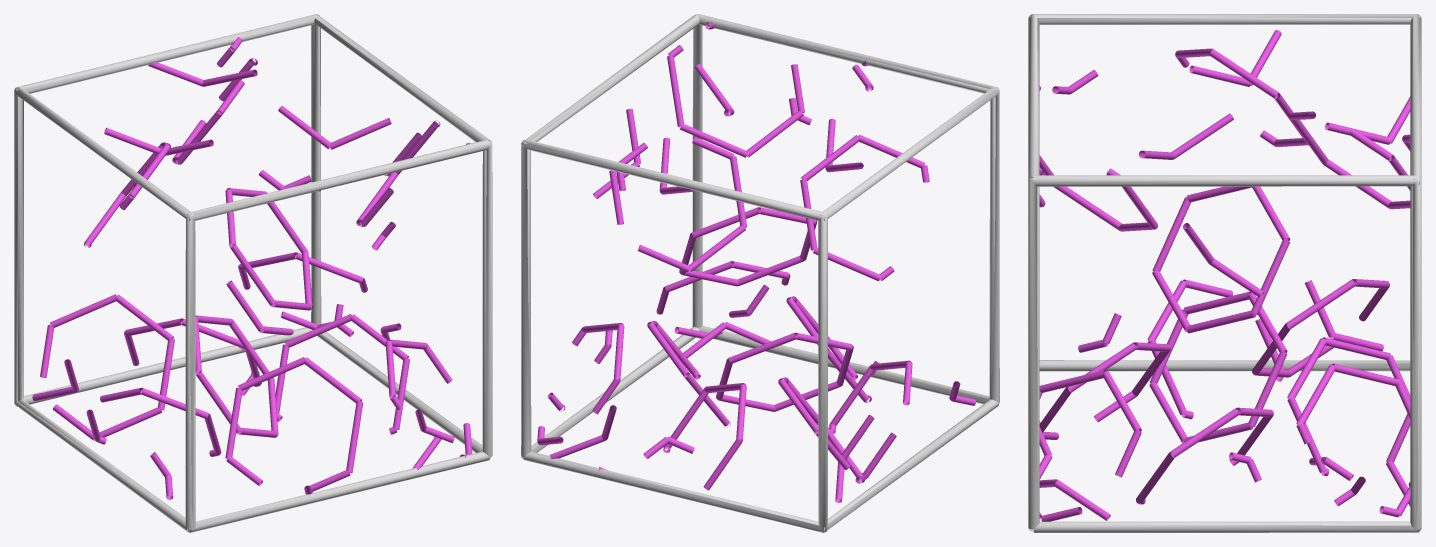
3 views of the same model, side by side, from view 1: azimuth 30°, elevation 25°; view 2: azimuth 150°, elevation 25°; view 3: azimuth 270°, elevation 25° (orthographic). The views are drawn at different scales.
Visible parts, largest first — view 1: Shape_IndexedLineSet, Shape_IndexedLineSet.001; view 2: Shape_IndexedLineSet, Shape_IndexedLineSet.001; view 3: Shape_IndexedLineSet.001, Shape_IndexedLineSet.
Part boxes in pixels (x1,y1,x2,y2): Shape_IndexedLineSet: (14,14,492,532); Shape_IndexedLineSet.001: (32,37,472,499); Shape_IndexedLineSet: (521,14,999,532); Shape_IndexedLineSet.001: (537,22,975,502); Shape_IndexedLineSet.001: (1038,30,1410,521); Shape_IndexedLineSet: (1028,14,1421,532).
Size of the model in its own units: 1.03 by 1.03 by 1.03.
